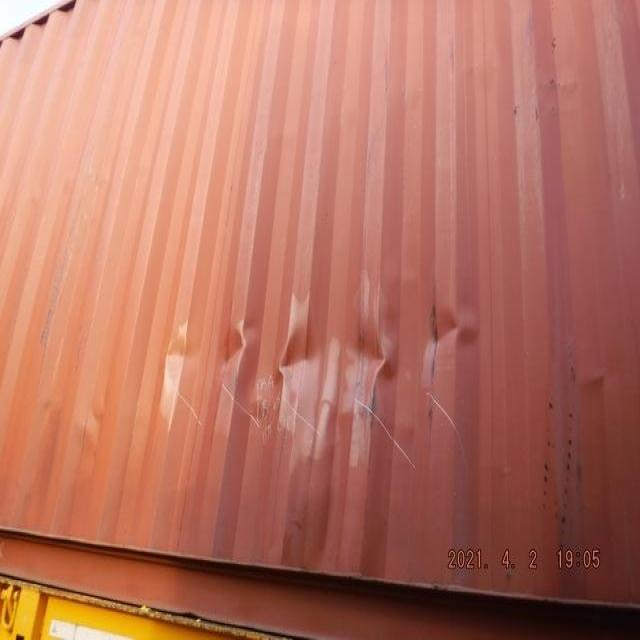dent: (146, 240, 505, 498)
